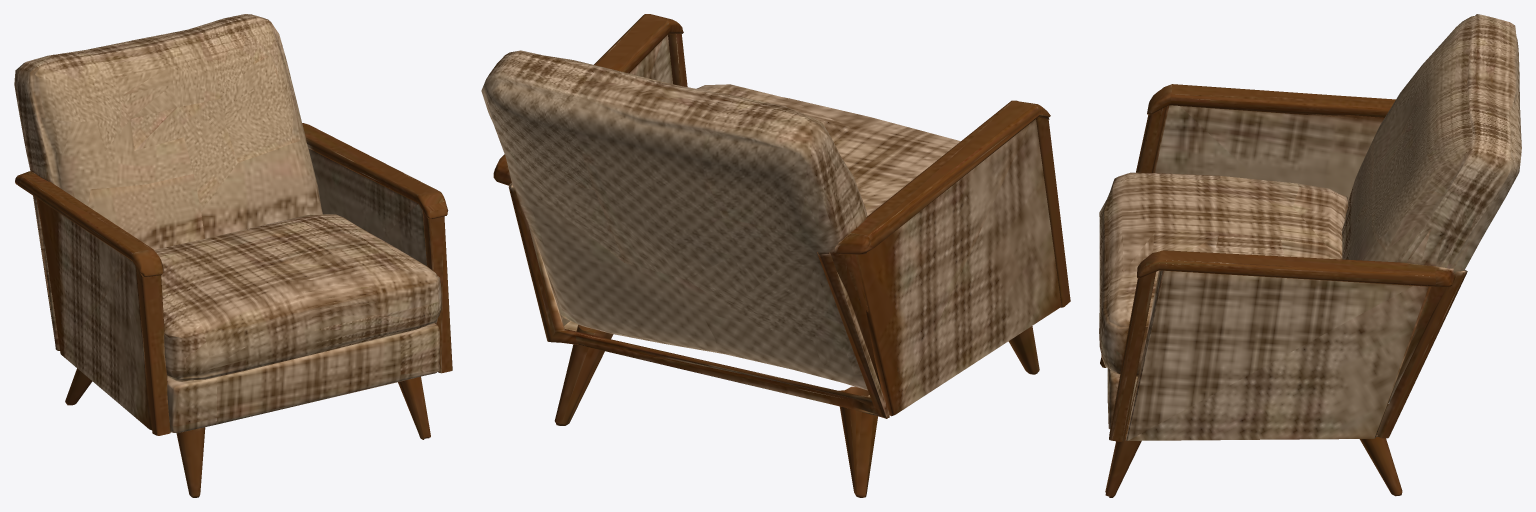
The model's file is armchair_beige__2.glb.
The picture shows the model from 3 angles, left to right: view 1: azimuth 30°, elevation 25°; view 2: azimuth 150°, elevation 25°; view 3: azimuth 270°, elevation 25°; orthographic projection. The views are drawn at different scales.
Visible parts, largest first — view 1: Mesh_0.214; view 2: Mesh_0.214; view 3: Mesh_0.214.
Boxes of the visible parts, box(x1,y1,x2,y2) form: Mesh_0.214: box(14, 14, 452, 497); Mesh_0.214: box(481, 14, 1070, 497); Mesh_0.214: box(1099, 14, 1521, 497).
Size of the model in its own units: 0.8779 by 0.86 by 0.9212.
1 material, 1 textured.
